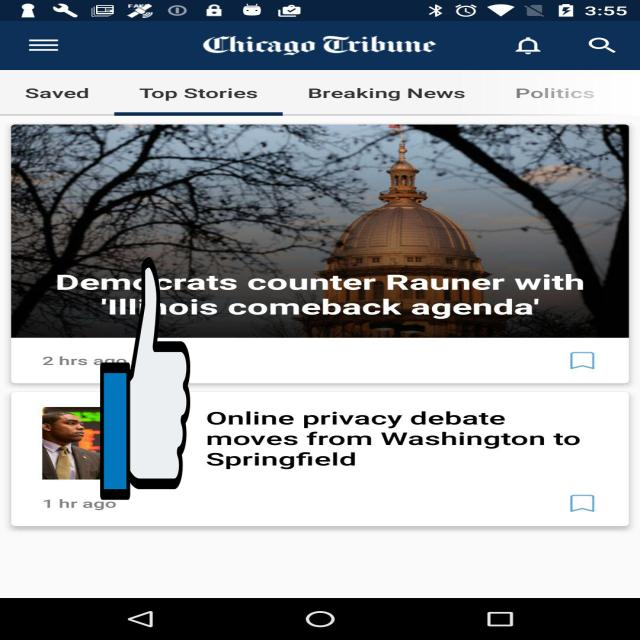privacy zuckering: (100, 252, 190, 505)
